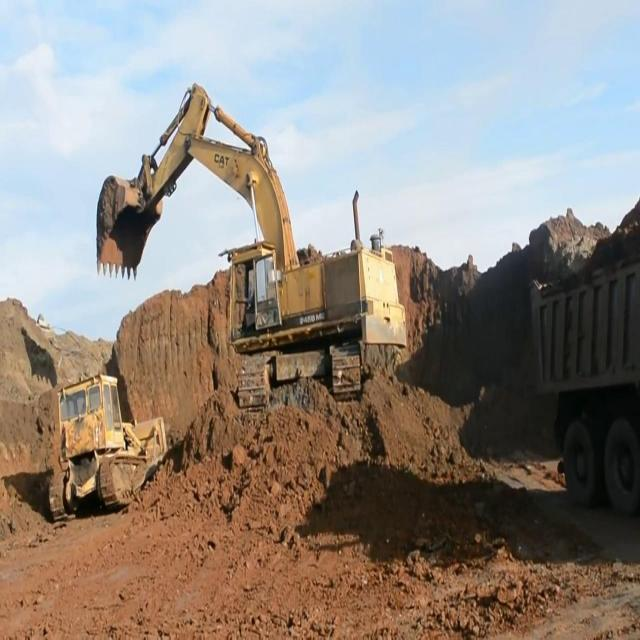Dump Truck: (529, 260, 639, 507)
Excavator: (92, 74, 408, 403)
Loader: (47, 367, 167, 523)
